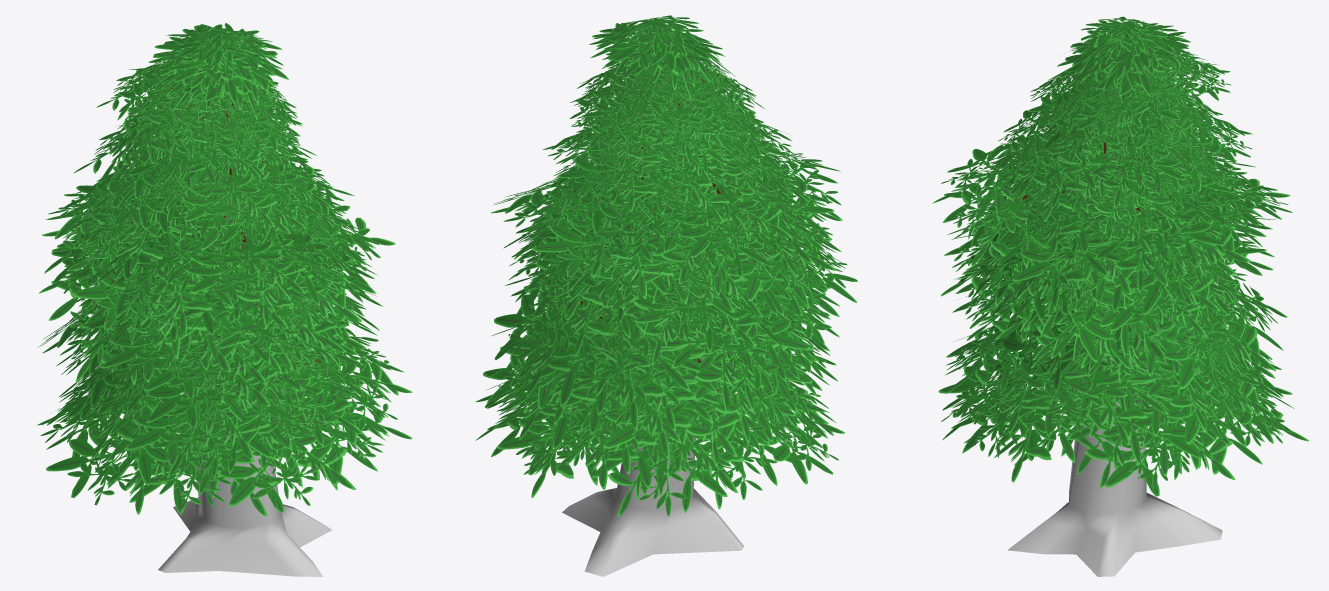
The model's file is Tree_002.fbx.
3 views of the same model, side by side, from view 1: azimuth 30°, elevation 25°; view 2: azimuth 150°, elevation 25°; view 3: azimuth 270°, elevation 25° (orthographic). The views are drawn at different scales.
Visible parts, largest first — view 1: Branches_002, Tree_002_base; view 2: Branches_002, Tree_002_base; view 3: Branches_002, Tree_002_base.
Boxes of the visible parts, left/top/right/bottom form: Branches_002: left=37, top=23, right=412, bottom=516; Tree_002_base: left=158, top=360, right=331, bottom=576; Branches_002: left=475, top=15, right=857, bottom=516; Tree_002_base: left=562, top=131, right=743, bottom=576; Branches_002: left=933, top=16, right=1308, bottom=496; Tree_002_base: left=1007, top=357, right=1222, bottom=576.
Bounding box in the file's own units: 9.91 × 13.63 × 9.86.
